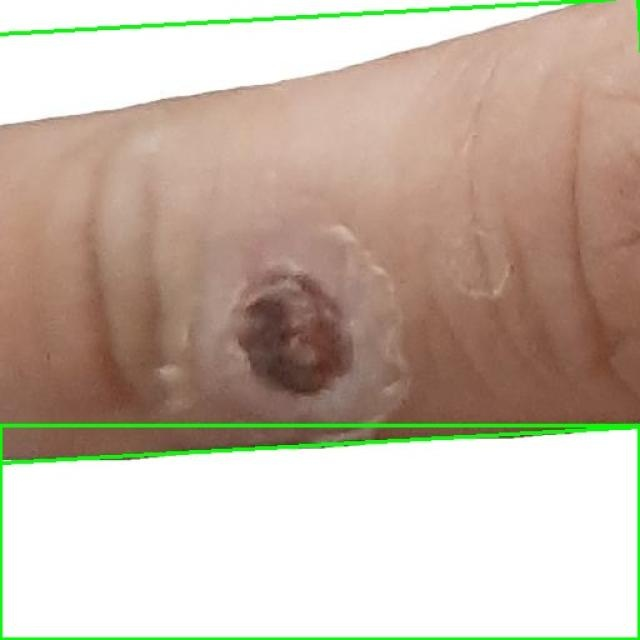Scabies: (0, 0, 640, 464), (0, 425, 639, 639)
